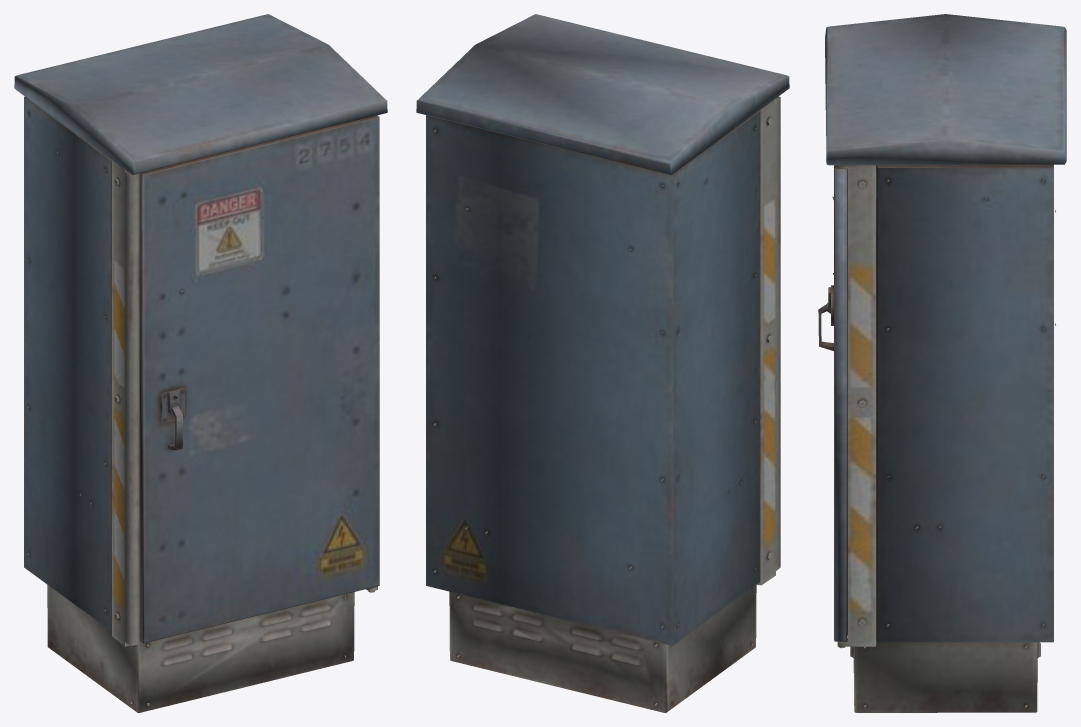
Rendered from utility_box_01.glb.
3 views of the same model, side by side, from view 1: azimuth 30°, elevation 25°; view 2: azimuth 150°, elevation 25°; view 3: azimuth 270°, elevation 25° (orthographic).
Parts seen in each view (by area): view 1: utility_box_01_box; view 2: utility_box_01_box; view 3: utility_box_01_box.
Part boxes in pixels (<box>): utility_box_01_box: <box>14,14,387,712</box>; utility_box_01_box: <box>416,14,789,712</box>; utility_box_01_box: <box>818,14,1066,712</box>.
Bounding box in the file's own units: 0.5165 × 1.12 × 0.4312.
Materials: 1 (1 with a texture image).
